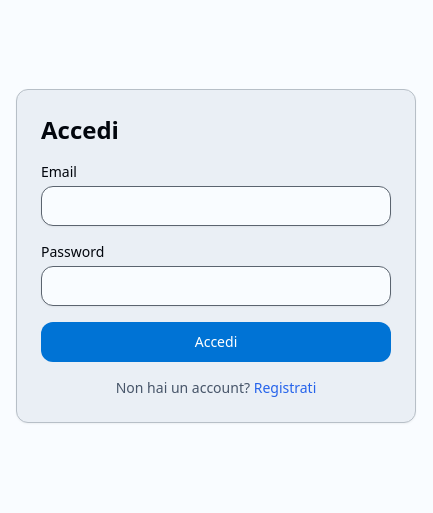
LoginPage — US-067 form validation › shows inline errors and summary when submitting empty fields
Click the button with test id "login-submit": (216, 342) [41,322,391,362]
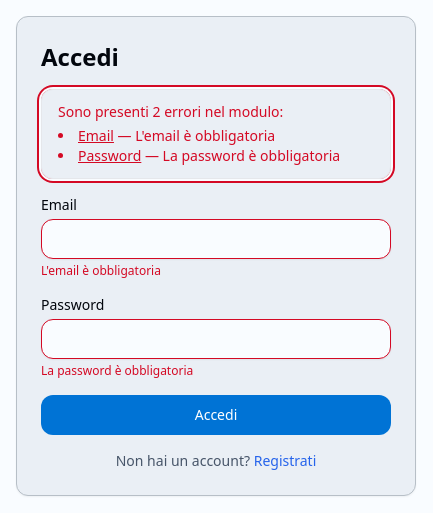
Now the text "L'email è obbligatoria" is shown, box [41,262,161,279]
Now the text "La password è obbligatoria" is shown, box [41,362,193,379]
Now the text "errori nel modulo" is shown, box [58,102,283,121]
